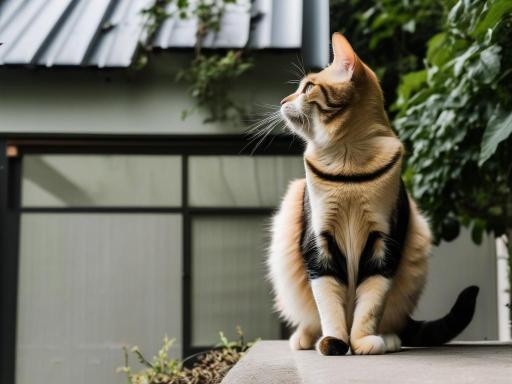cat_sitting: (266, 32, 478, 355)
